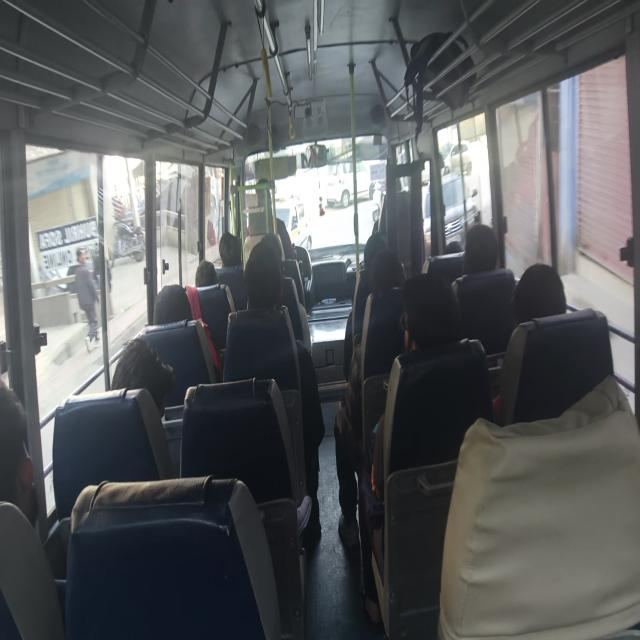person: (359, 272, 492, 633), (223, 240, 325, 540), (334, 248, 407, 550), (0, 382, 67, 579), (153, 284, 223, 378), (343, 232, 387, 380), (0, 382, 39, 528), (111, 335, 175, 421), (451, 222, 499, 296), (512, 262, 567, 324), (74, 246, 101, 346), (152, 284, 192, 324), (218, 231, 242, 268), (194, 260, 218, 286)
